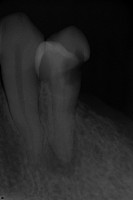Furcation Involvement: (45, 130, 79, 178)
